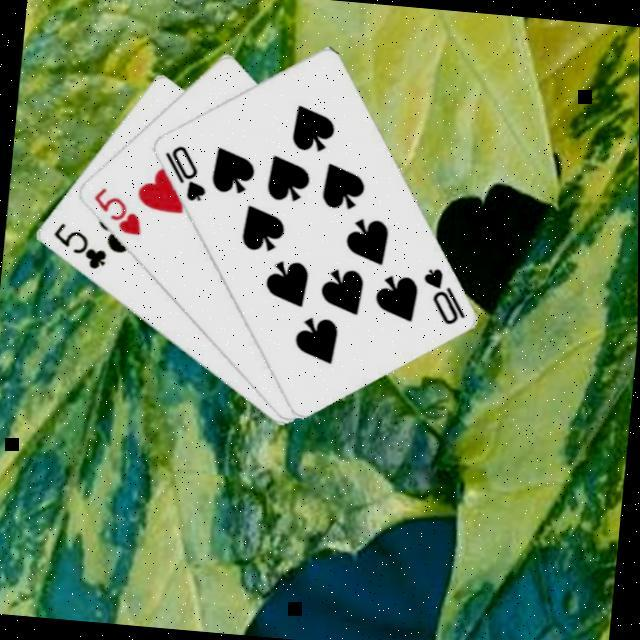10S: (158, 142, 213, 208), (417, 265, 472, 331)
5C: (47, 220, 113, 275)
5H: (88, 184, 149, 241)
